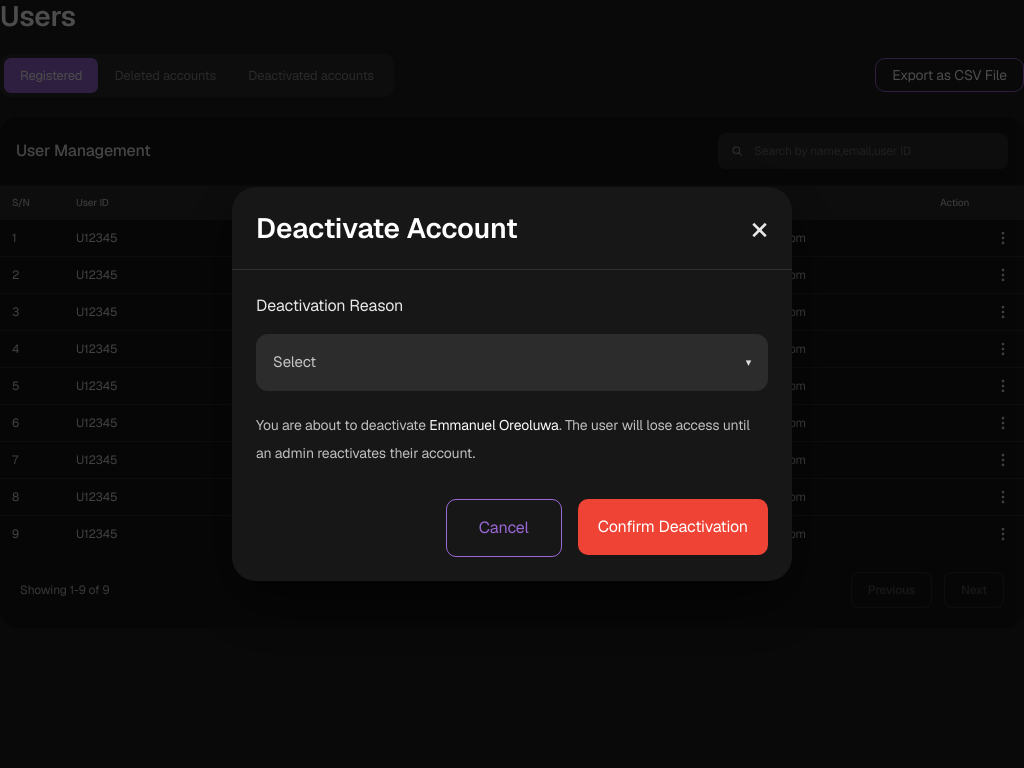
Test: UsersPage › closes route-opened deactivate modal without router navigation
The image size is (1024, 768).
Step 1. Click the button with aria-label "Cancel deactivate account" → (504, 528), box [446,499,562,557]
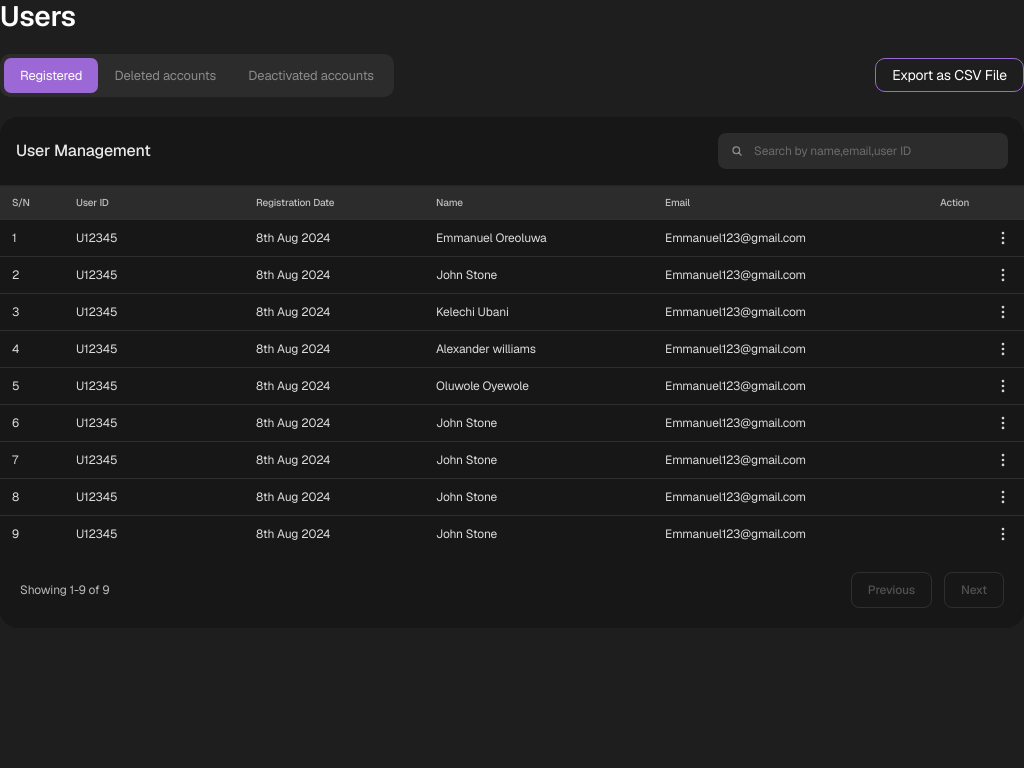
Expected: the heading "Deactivate Account" is gone
